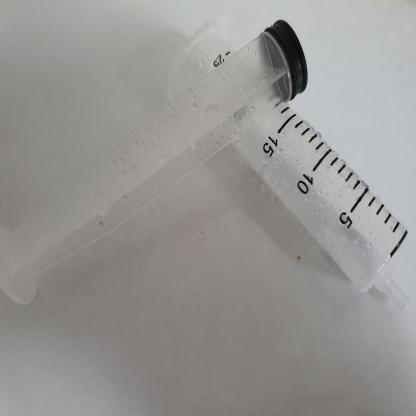wet: (0, 21, 329, 304), (149, 24, 415, 323)
